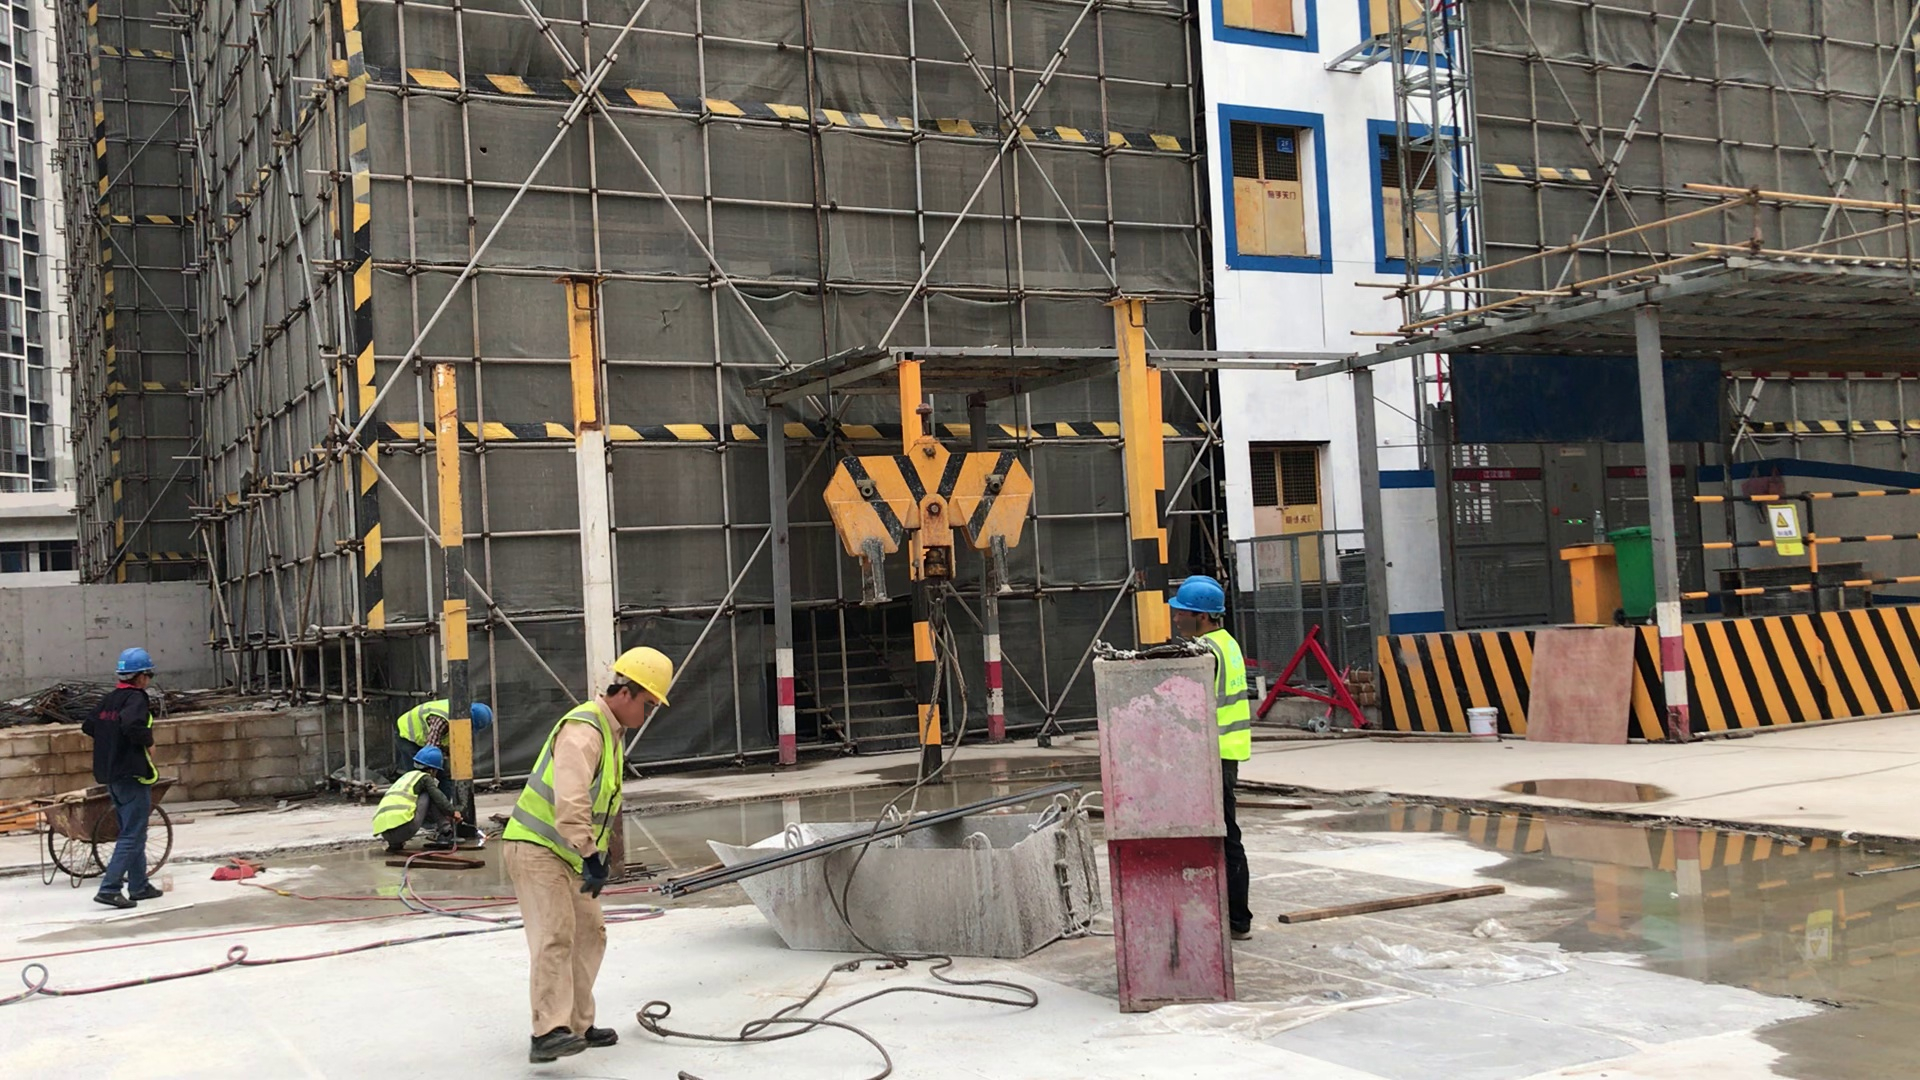helmet: (611, 645, 675, 715), (1170, 569, 1233, 627), (106, 638, 169, 688), (463, 700, 496, 741), (413, 743, 452, 773)
person: (492, 634, 689, 1080), (1094, 566, 1300, 968), (74, 633, 193, 914), (365, 742, 482, 877), (390, 669, 504, 783)
vest: (501, 697, 633, 882), (1166, 624, 1267, 809), (370, 764, 434, 850), (389, 691, 460, 743)
